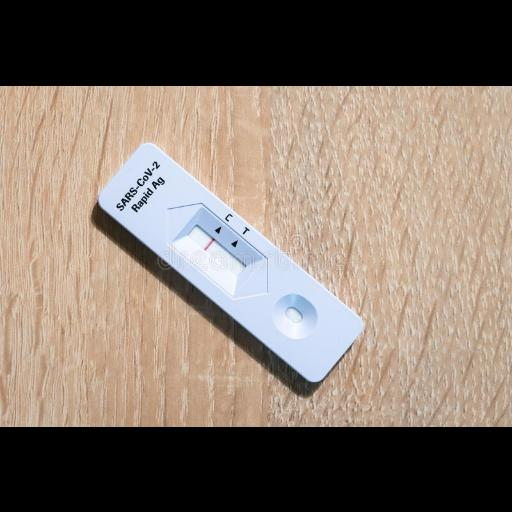Neg: (95, 137, 367, 385)
